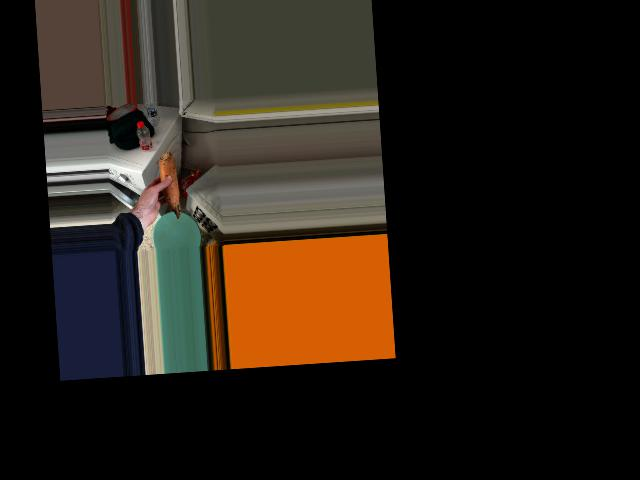sweet_potato: (153, 148, 182, 221)
